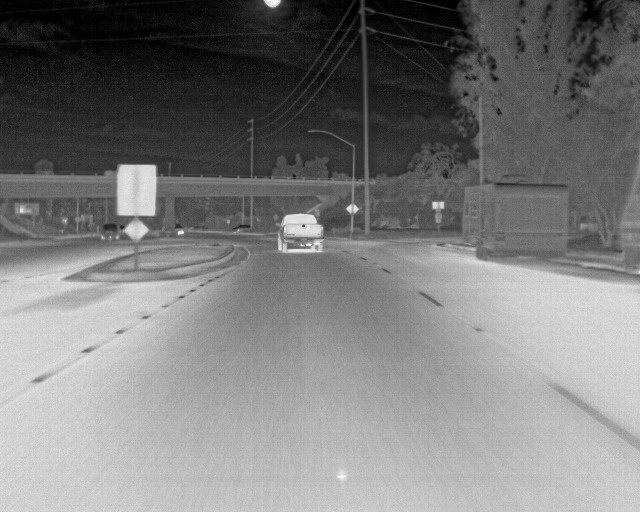vehicle: (276, 212, 325, 254), (101, 222, 122, 242)
